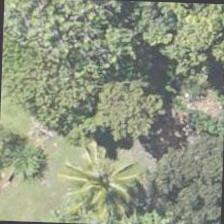Kelapa_Sawit: (54, 136, 148, 223)
